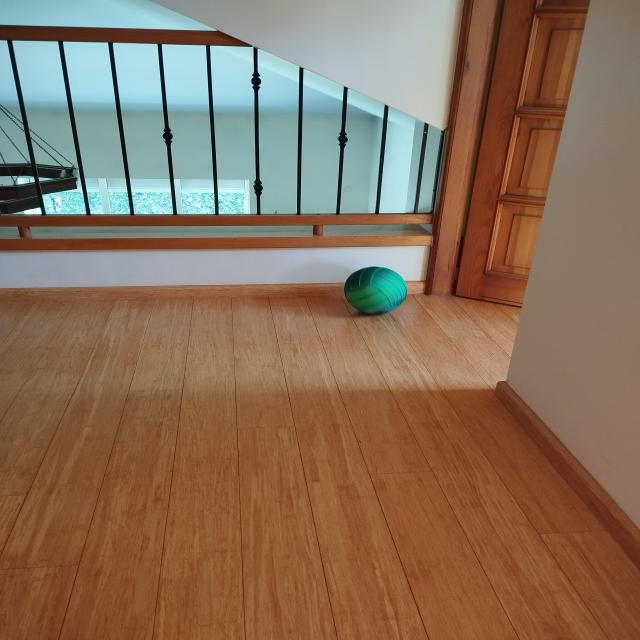zielona: (345, 267, 408, 315)
